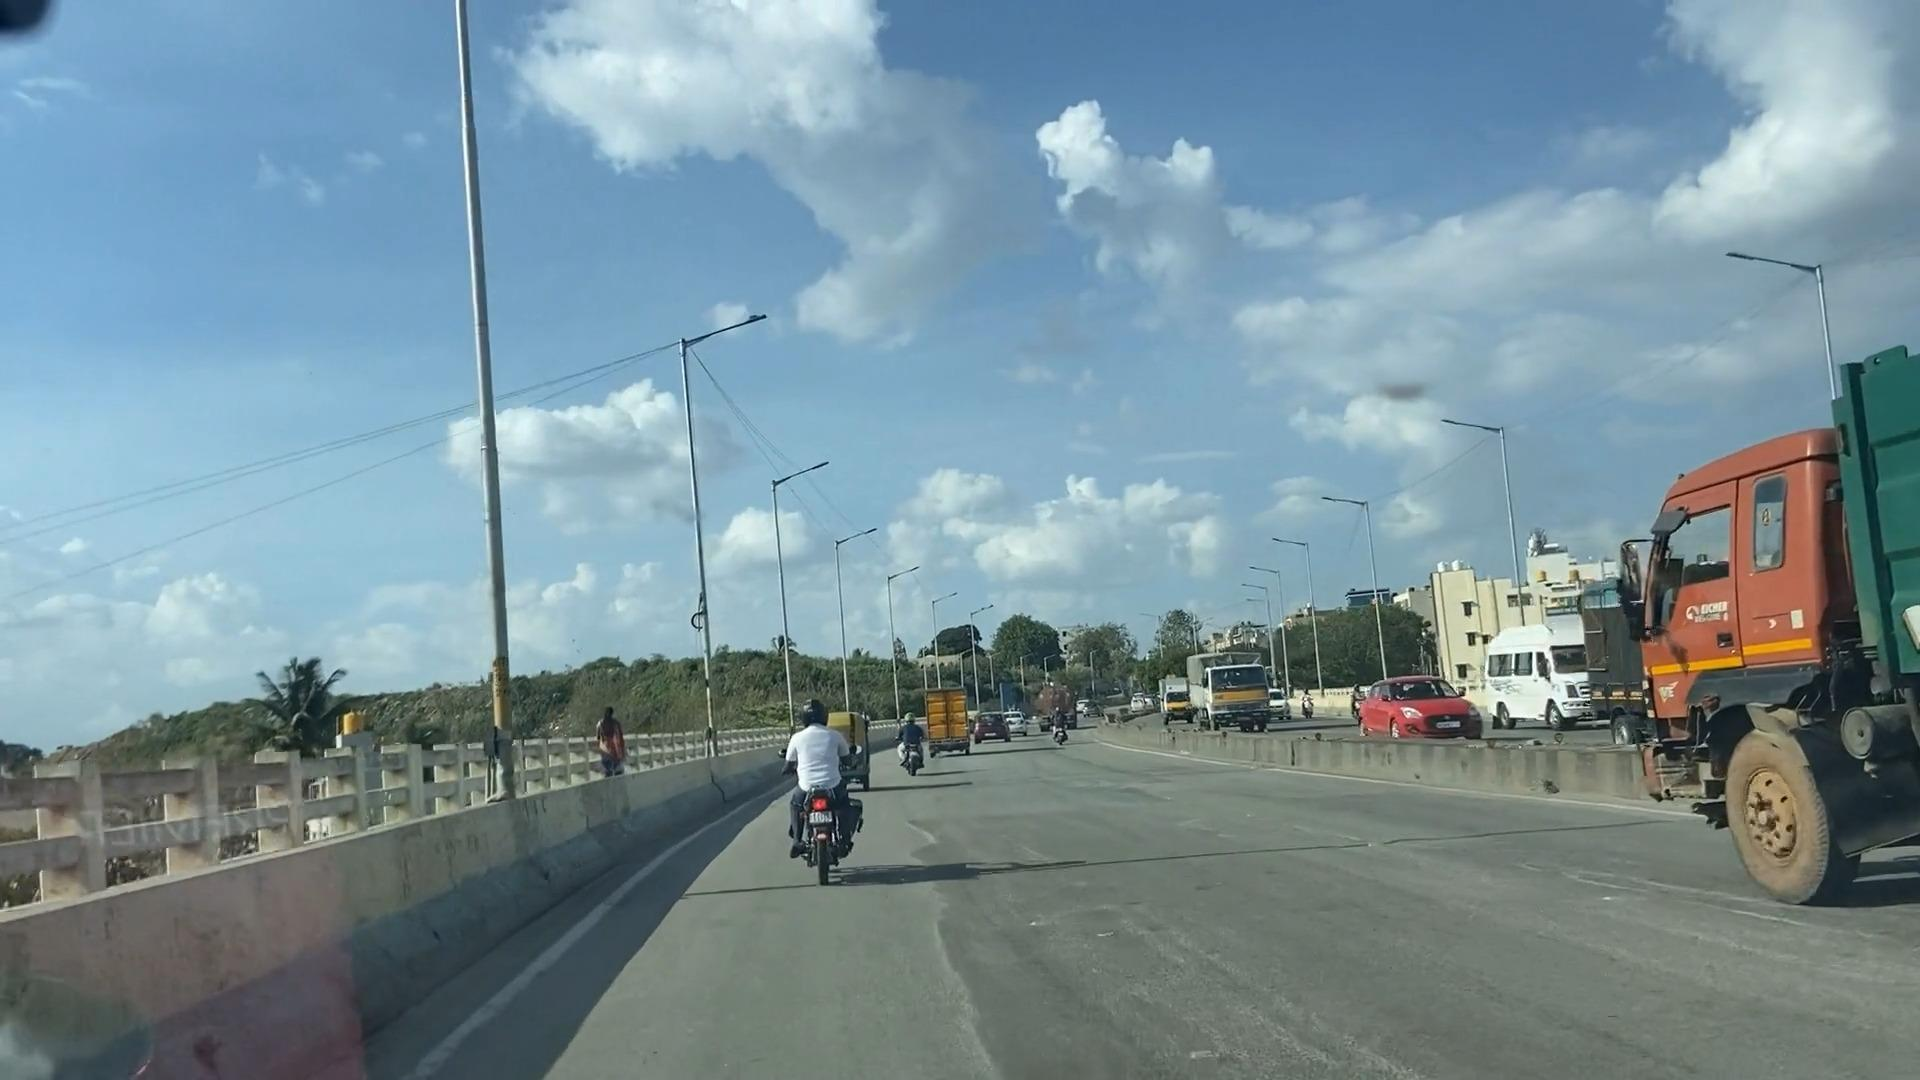HMV: (1532, 332, 1920, 893)
